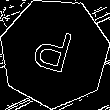P_S: (30, 23, 79, 82)
